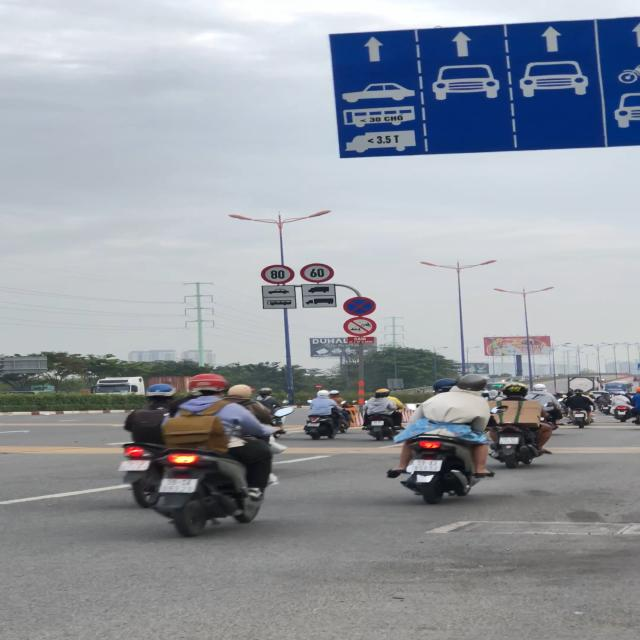Bien bao cam dung xe va do xe: (342, 296, 379, 317)
Bien bao toc do toi da cho phep: (298, 262, 336, 284), (259, 262, 296, 284)
